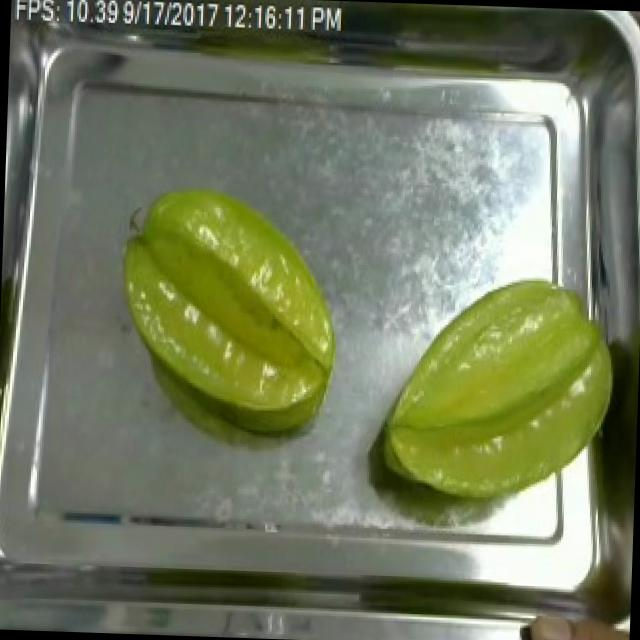fruit: (369, 270, 632, 522), (102, 172, 351, 430)
